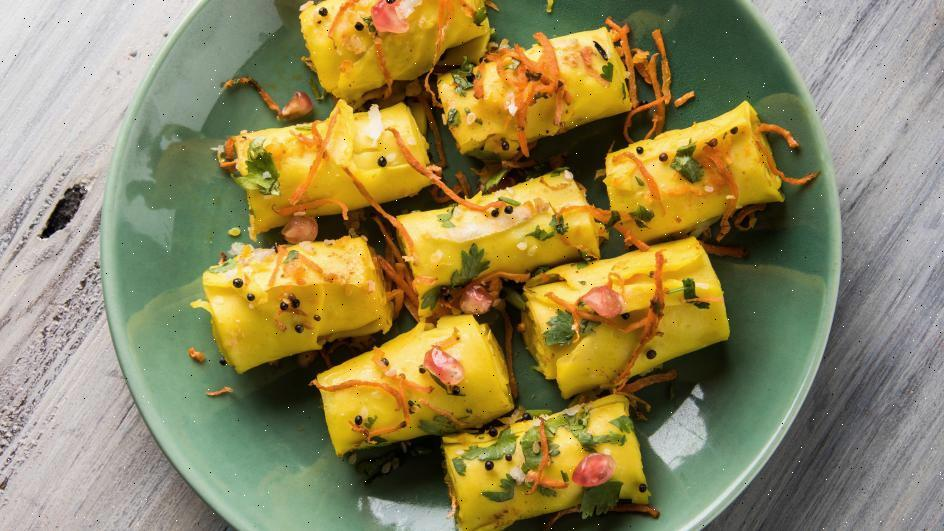khandvi: (223, 10, 774, 531)
